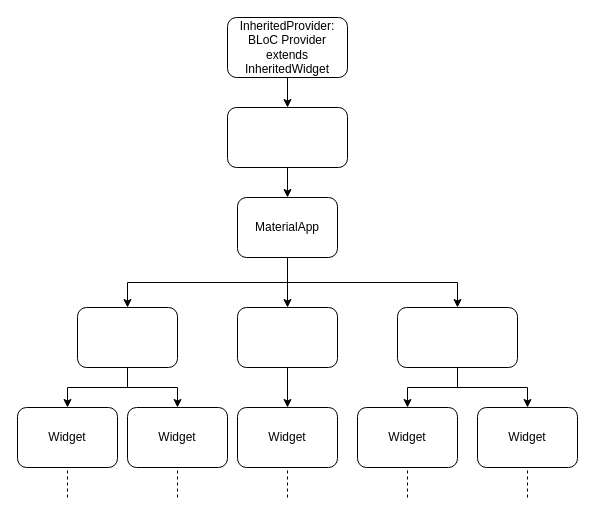
Image size: 595x516. Some labels were removed from this diagram. The centre of each missing label's shape, as x and y in pixels:
AdminHomePage: (287,337)
LoginPage: (127,337)
MultiProvider: (287,137)
RepartidorHomePage: (457,337)
